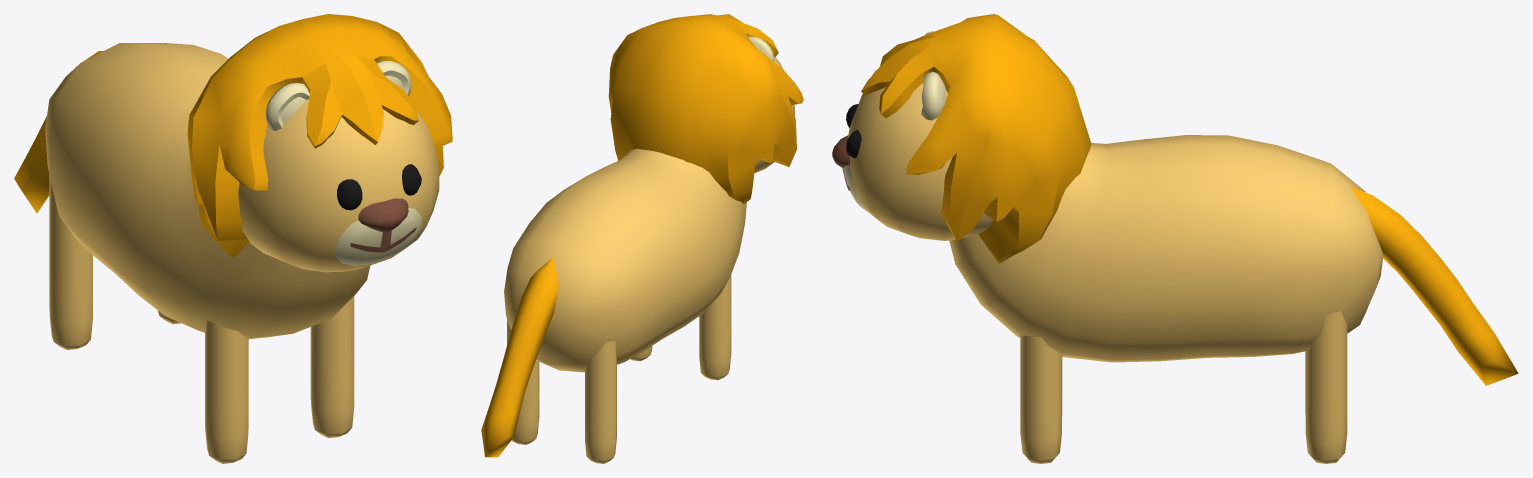
The model's file is Lion.fbx.
3 views of the same model, side by side, from view 1: azimuth 30°, elevation 25°; view 2: azimuth 150°, elevation 25°; view 3: azimuth 270°, elevation 25° (orthographic). The views are drawn at different scales.
Visible parts, largest first — view 1: Lion; view 2: Lion; view 3: Lion.
Boxes of the visible parts, x1=… form: Lion: x1=14, y1=14, x2=452, y2=463; Lion: x1=481, y1=14, x2=803, y2=463; Lion: x1=832, y1=14, x2=1518, y2=463.
Size of the model in its own units: 136 by 238 by 362.
